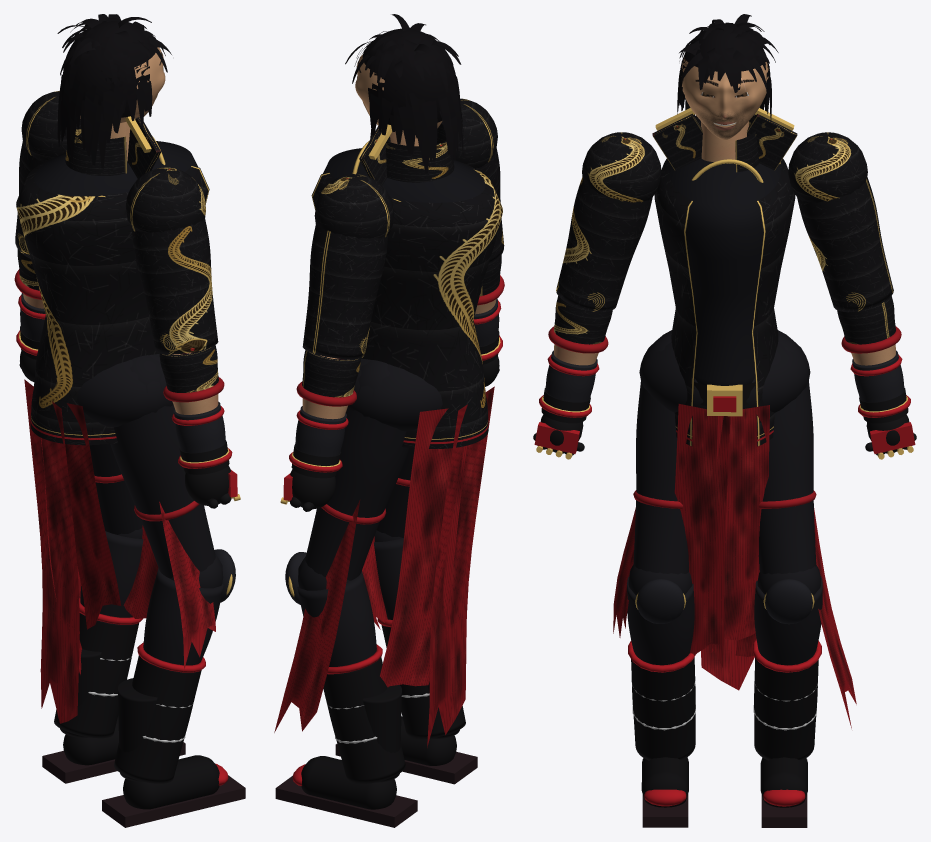
File: kai.glb
The picture shows the model from 3 angles, left to right: view 1: azimuth 30°, elevation 25°; view 2: azimuth 150°, elevation 25°; view 3: azimuth 270°, elevation 25°; orthographic projection.
Visible parts, largest first — view 1: object 6, object 119, object 93, object 72, object 30, object 109, object 118, object 102, object 17, object 1, object 74, object 3 (+30 smaller); view 2: object 6, object 117, object 119, object 71, object 87, object 30, object 102, object 115, object 16, object 1, object 73, object 3 (+29 smaller); view 3: object 3, object 6, object 114, object 113, object 71, object 93, object 87, object 72, object 102, object 109, object 1, object 16 (+30 smaller).
Part boxes in pixels (box(x1,y1,x2,y2)): object 6: box(16, 153, 209, 445); object 119: box(24, 379, 79, 723); object 93: box(131, 218, 218, 354); object 72: box(110, 405, 215, 578); object 30: box(57, 14, 171, 168); object 109: box(114, 655, 201, 783); object 118: box(52, 403, 120, 629); object 102: box(54, 613, 138, 738); object 17: box(125, 167, 205, 232); object 1: box(77, 354, 173, 427); object 74: box(143, 568, 223, 665); object 3: box(34, 141, 197, 196); object 6: box(311, 160, 502, 448); object 117: box(380, 408, 467, 687); object 119: box(427, 386, 494, 747); object 71: box(305, 409, 409, 580); object 87: box(302, 224, 388, 359); object 30: box(345, 14, 463, 173); object 102: box(323, 657, 405, 784); object 115: box(274, 499, 360, 732); object 16: box(314, 174, 394, 238); object 1: box(347, 358, 442, 431); object 73: box(297, 571, 376, 666); object 3: box(323, 148, 485, 202); object 3: box(669, 158, 780, 385); object 6: box(654, 158, 795, 446); object 114: box(674, 404, 730, 667); object 113: box(711, 405, 769, 652); object 71: box(758, 380, 816, 574); object 93: box(556, 177, 652, 311); object 87: box(797, 177, 893, 312); object 72: box(633, 380, 688, 574); object 102: box(754, 657, 818, 760); object 109: box(631, 657, 695, 760); object 1: box(639, 330, 810, 412); object 16: box(788, 132, 867, 202).
Size of the model in its own units: 0.4524 by 1.84 by 0.8398.
Materials: 48 (13 with a texture image).
